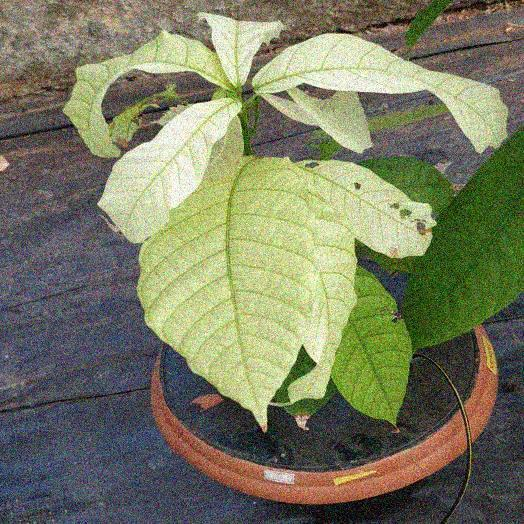Healthy Leaf: (403, 128, 523, 347), (331, 267, 410, 424), (362, 156, 453, 216), (358, 244, 419, 272)
Iron: (137, 160, 318, 428), (252, 34, 507, 151), (64, 31, 228, 157), (98, 98, 240, 242), (298, 160, 435, 257), (291, 197, 356, 400), (262, 88, 371, 152), (199, 13, 283, 87), (204, 117, 242, 177)
